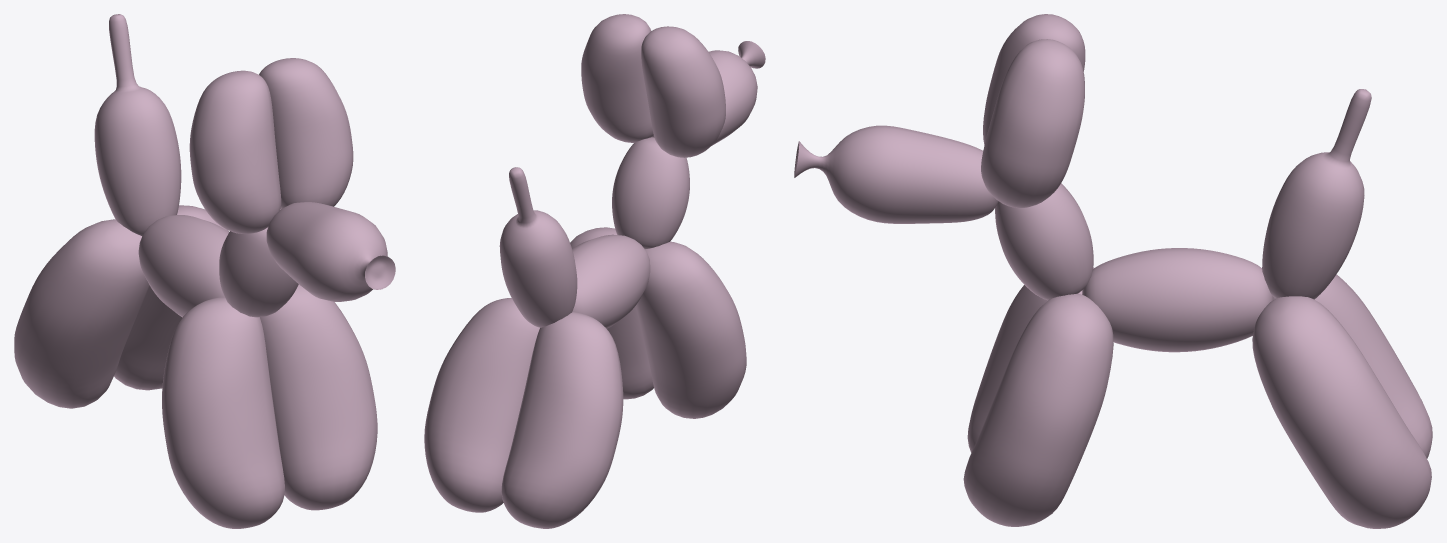
The model's file is balloon dog easter egg lighting fix maybe.fbx.
3 renders of one model, left to right at view 1: azimuth 30°, elevation 25°; view 2: azimuth 150°, elevation 25°; view 3: azimuth 270°, elevation 25°, orthographic. The views are drawn at different scales.
Parts seen in each view (by area): view 1: pasted__pasted__pasted__pSphere1 (×2), pasted__pasted__pSphere1, pSphere1, pasted__pasted__pasted__pasted__pSphere1, pasted__pasted__pasted__pSphere2, pasted__pasted__pasted__pasted__pSphere2, pSphere2, pasted__pSphere2, pasted__pSphere1; view 2: pasted__pasted__pasted__pSphere1 (×2), pSphere1, pasted__pSphere1, pasted__pasted__pasted__pasted__pSphere1, pasted__pasted__pasted__pSphere2, pasted__pSphere2, pSphere2, pasted__pasted__pasted__pasted__pSphere2, pasted__pasted__pSphere1; view 3: pasted__pSphere1, pasted__pasted__pSphere1, pasted__pasted__pasted__pSphere1 (×2), pSphere2, pasted__pasted__pasted__pasted__pSphere2, pasted__pasted__pasted__pSphere2, pasted__pSphere2, pSphere1, pasted__pasted__pasted__pasted__pSphere1.
Part boxes in pixels (box(x1,y1,x2,y2)): pasted__pasted__pasted__pSphere1 (×2): box(162, 58, 353, 528); pasted__pasted__pSphere1: box(259, 284, 377, 510); pSphere1: box(14, 219, 149, 408); pasted__pasted__pasted__pasted__pSphere1: box(189, 70, 281, 233); pasted__pasted__pasted__pSphere2: box(94, 14, 181, 235); pasted__pasted__pasted__pasted__pSphere2: box(266, 202, 395, 301); pSphere2: box(138, 215, 228, 317); pasted__pSphere2: box(219, 209, 298, 317); pasted__pSphere1: box(114, 205, 228, 390); pasted__pasted__pasted__pSphere1 (×2): box(581, 14, 746, 418); pSphere1: box(501, 312, 623, 528); pasted__pSphere1: box(424, 298, 539, 512); pasted__pasted__pasted__pasted__pSphere1: box(641, 26, 725, 157); pasted__pasted__pasted__pSphere2: box(499, 167, 577, 327); pasted__pSphere2: box(612, 137, 689, 248); pSphere2: box(572, 234, 650, 328); pasted__pasted__pasted__pasted__pSphere2: box(652, 41, 765, 145); pasted__pasted__pSphere1: box(570, 227, 653, 399); pasted__pSphere1: box(1252, 296, 1431, 528); pasted__pasted__pSphere1: box(963, 293, 1113, 526); pasted__pasted__pasted__pSphere1 (×2): box(967, 39, 1093, 452); pSphere2: box(1082, 248, 1273, 352); pasted__pasted__pasted__pasted__pSphere2: box(794, 125, 998, 223); pasted__pasted__pasted__pSphere2: box(1262, 89, 1371, 299); pasted__pSphere2: box(995, 183, 1093, 300); pSphere1: box(1273, 274, 1432, 458); pasted__pasted__pasted__pasted__pSphere1: box(983, 14, 1085, 144).
Bounding box in the file's own units: 7.09 × 14.87 × 18.18.
